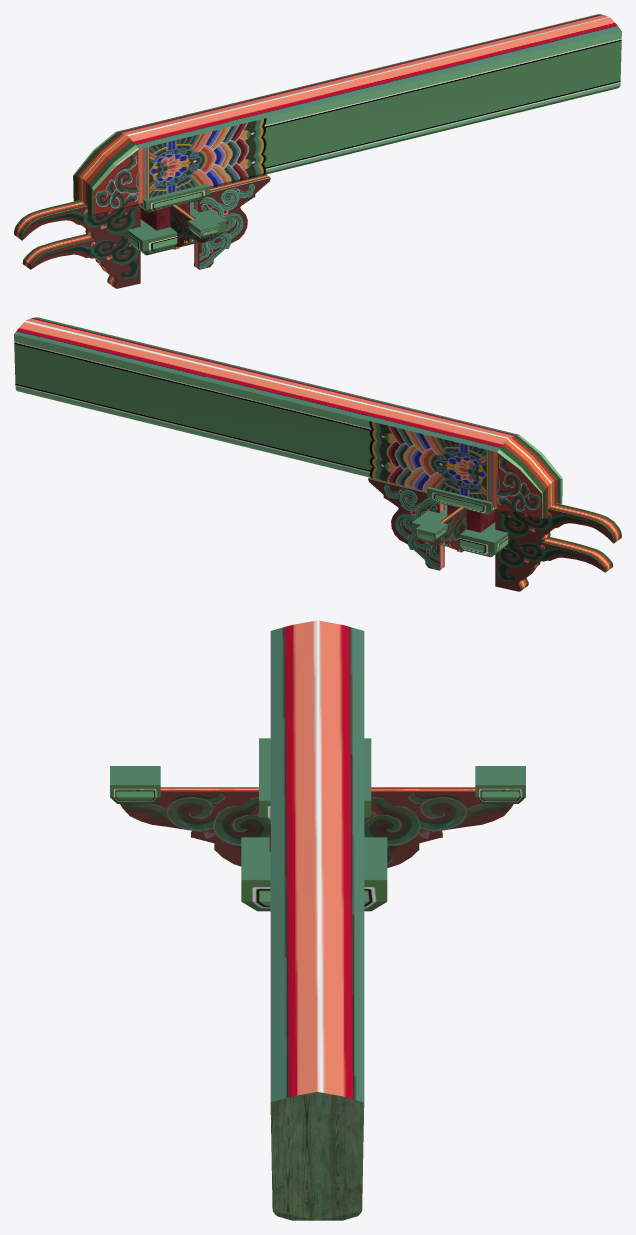
Rendered from SM_R_Beam_21.fbx.
3 views of the same model, one above another, from view 1: azimuth 30°, elevation 25°; view 2: azimuth 150°, elevation 25°; view 3: azimuth 270°, elevation 25° (orthographic). The views are drawn at different scales.
Parts seen in each view (by area): view 1: SM_R_Beam_21; view 2: SM_R_Beam_21; view 3: SM_R_Beam_21.
Part boxes in pixels (x1,y1,x2,y2): SM_R_Beam_21: (14,14,621,288); SM_R_Beam_21: (14,317,621,591); SM_R_Beam_21: (110,620,525,1220).
Bounding box in the file's own units: 526 × 160 × 126.
4 materials, 4 textured.
